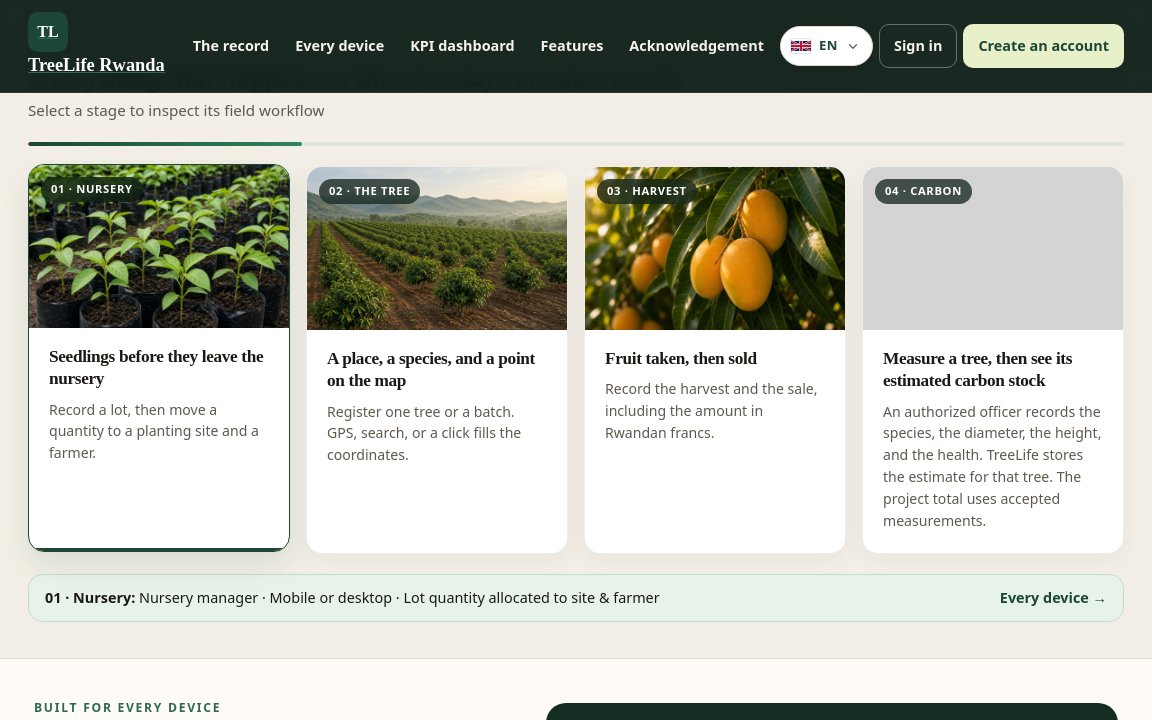
HomePage › switches lifecycle stages interactively in InteractiveLifecycle (#scenes)
(page scrolled)
expect the heading "Everything that happens to the tree stays on one record." is shown: met, box [28,60,708,93]
expect the text "Nursery manager · Mobile or desktop · Lot quantity allocated to site & farmer" is shown: met, box [139,588,660,607]
Step 1. Click the tab "02 · The tree" → (437, 360), box [306,166,568,554]
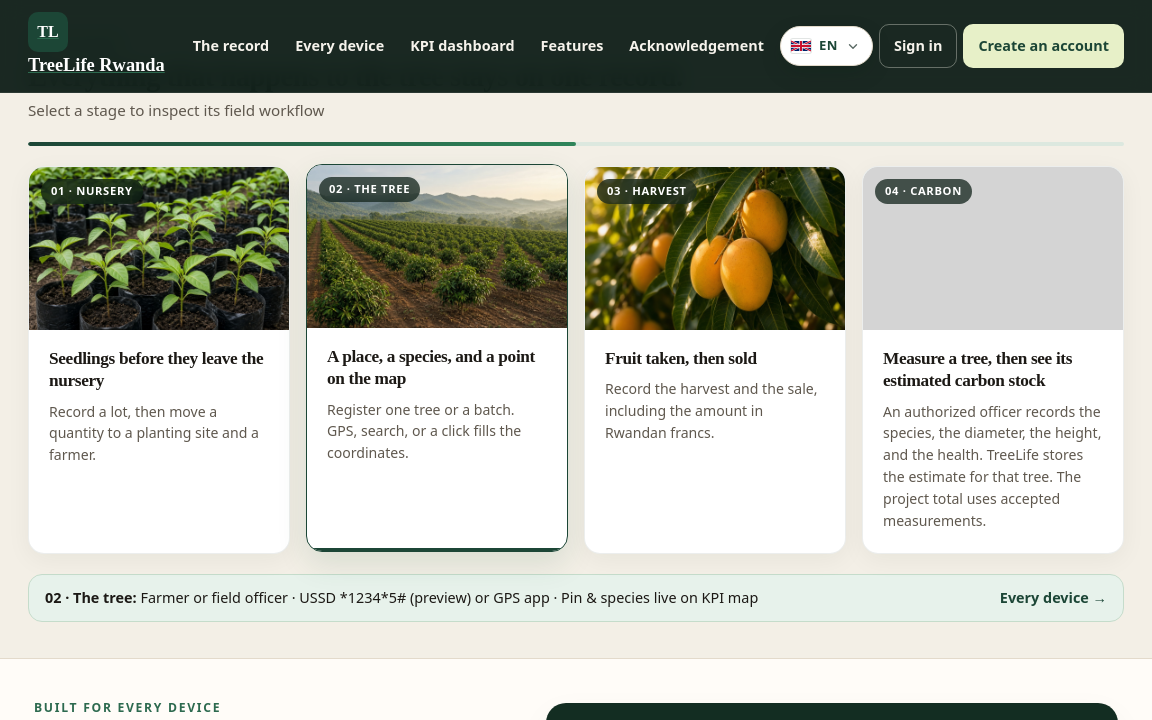
expect the text "Farmer or field officer · USSD *1234*5# (preview) or GPS app · Pin & species live on KPI map" is shown: met, box [140,588,758,607]
Step 2. Click the tab "04 · Carbon" → (993, 360), box [862,166,1124,554]
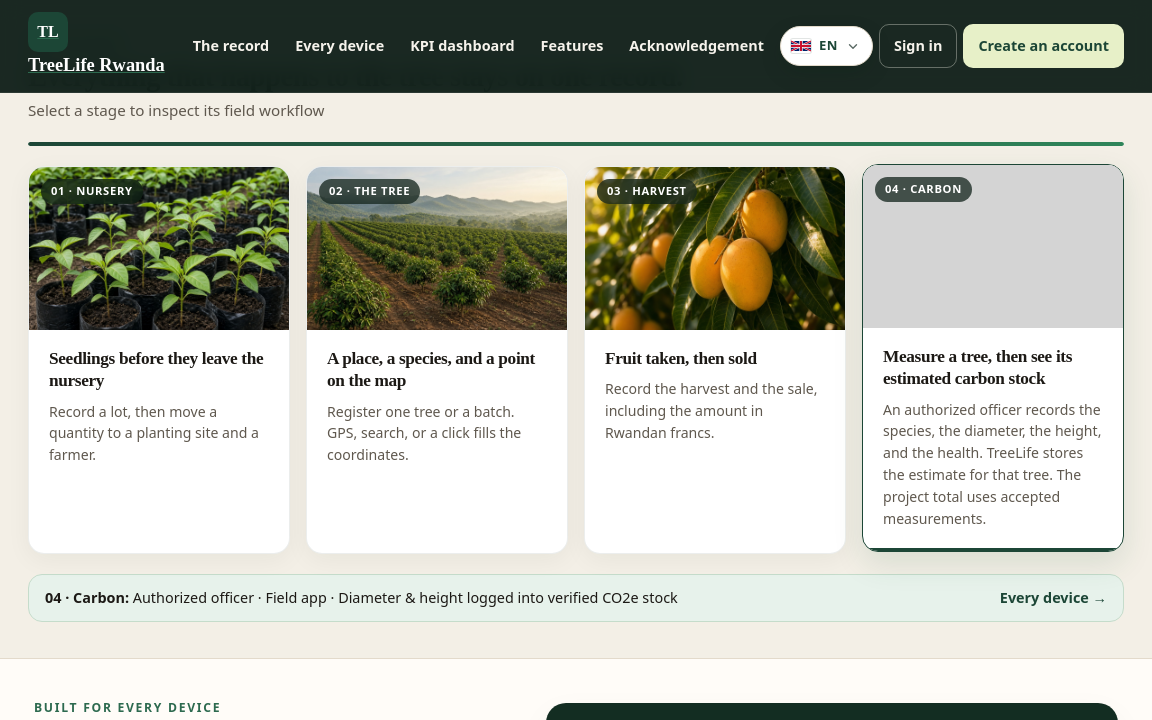
expect the text "Authorized officer · Field app · Diameter & height logged into verified CO2e stock" is shown: met, box [133,588,678,607]
